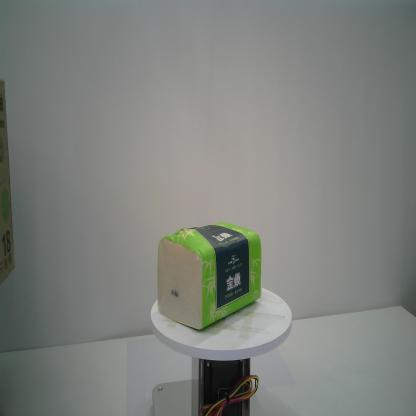Tissue: (155, 220, 262, 332)
